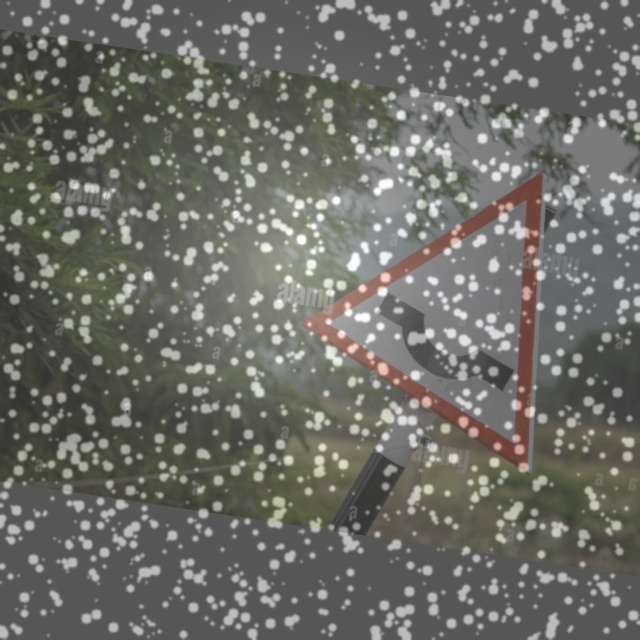Dangerous_Dip: (281, 136, 581, 472)
